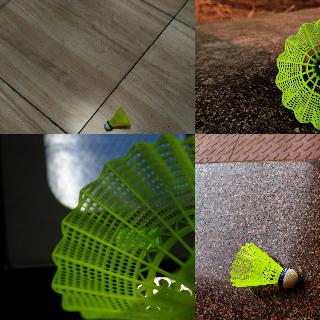shuttlecock: (51, 134, 194, 319), (274, 14, 319, 130), (230, 242, 298, 288), (104, 108, 130, 130)
